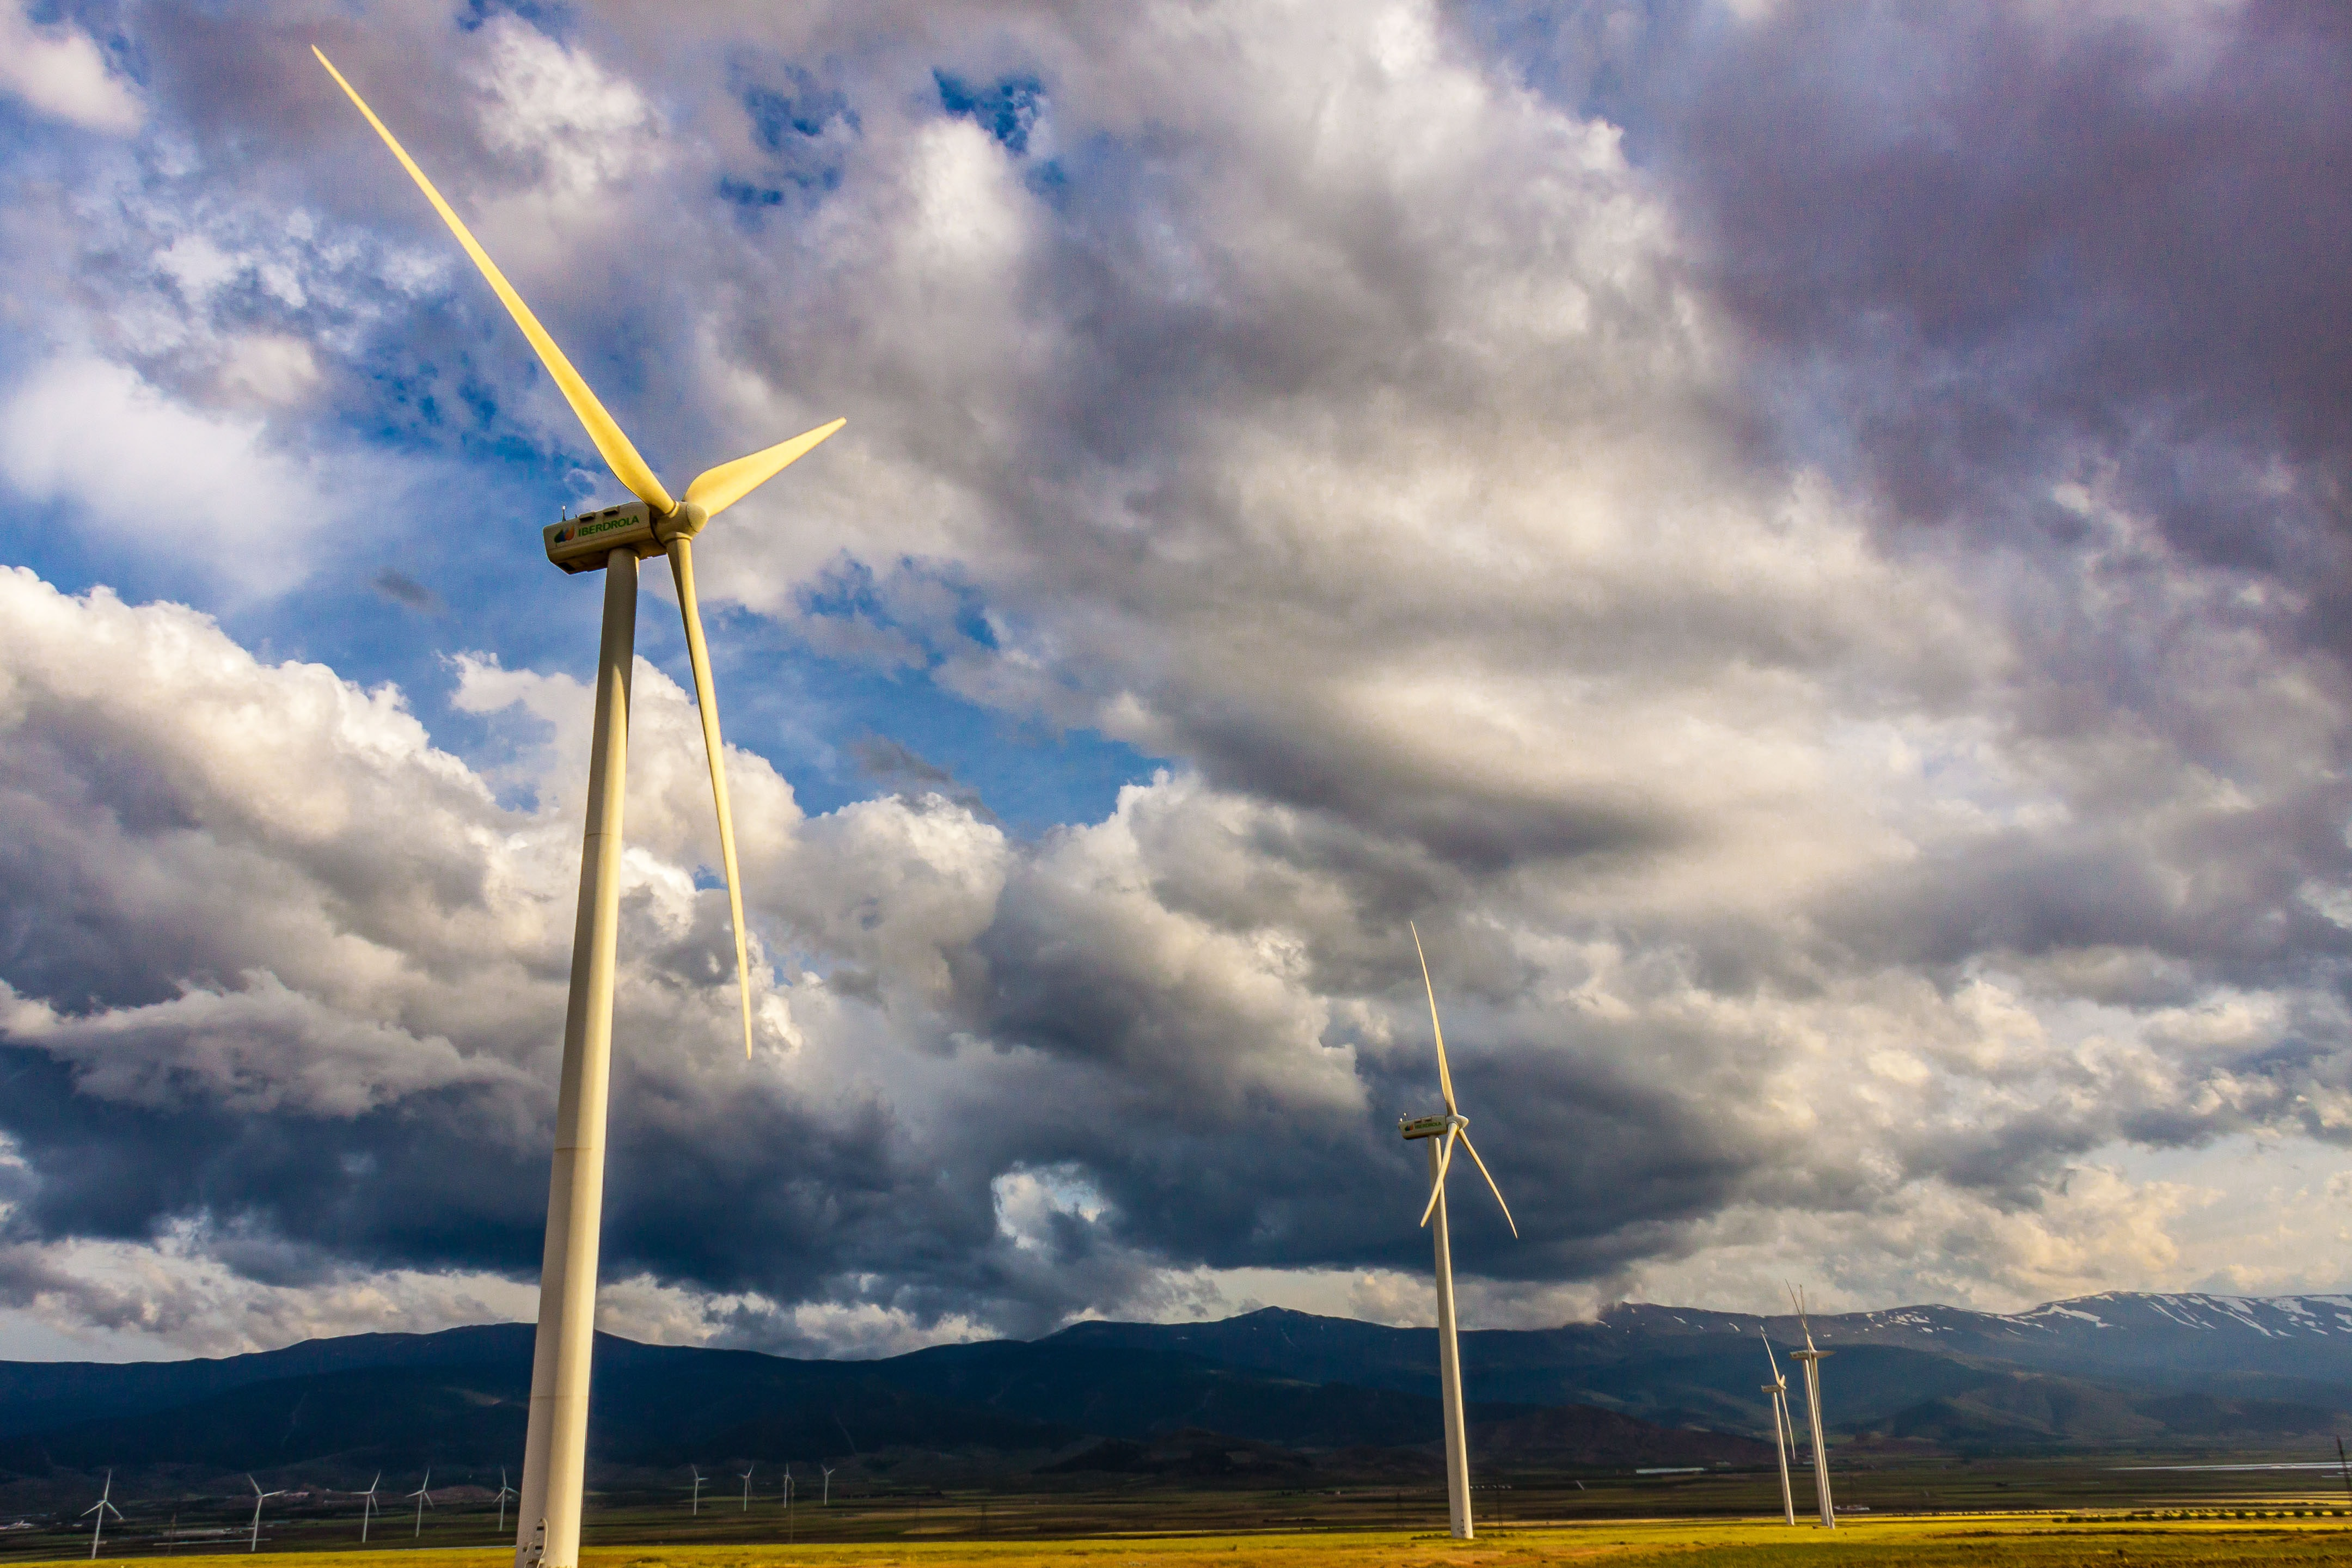working: (294, 30, 870, 1164), (1377, 917, 1536, 1353)
